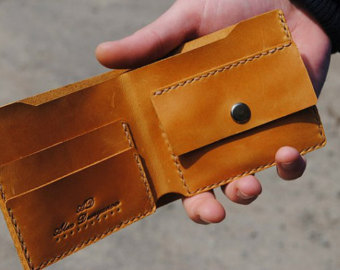monedero: (1, 8, 328, 270)
